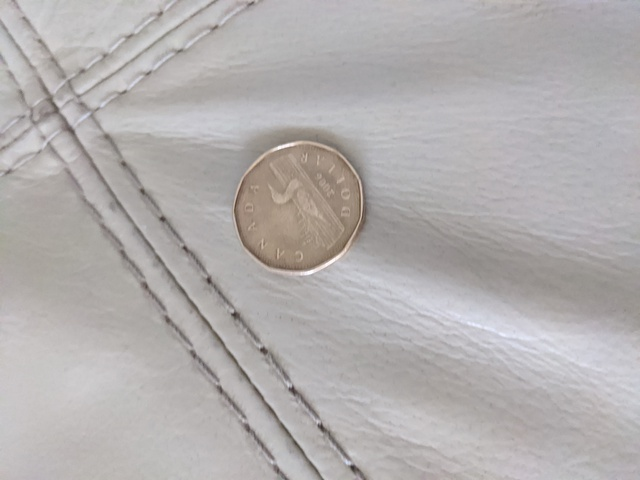loonie: (232, 126, 370, 266)
